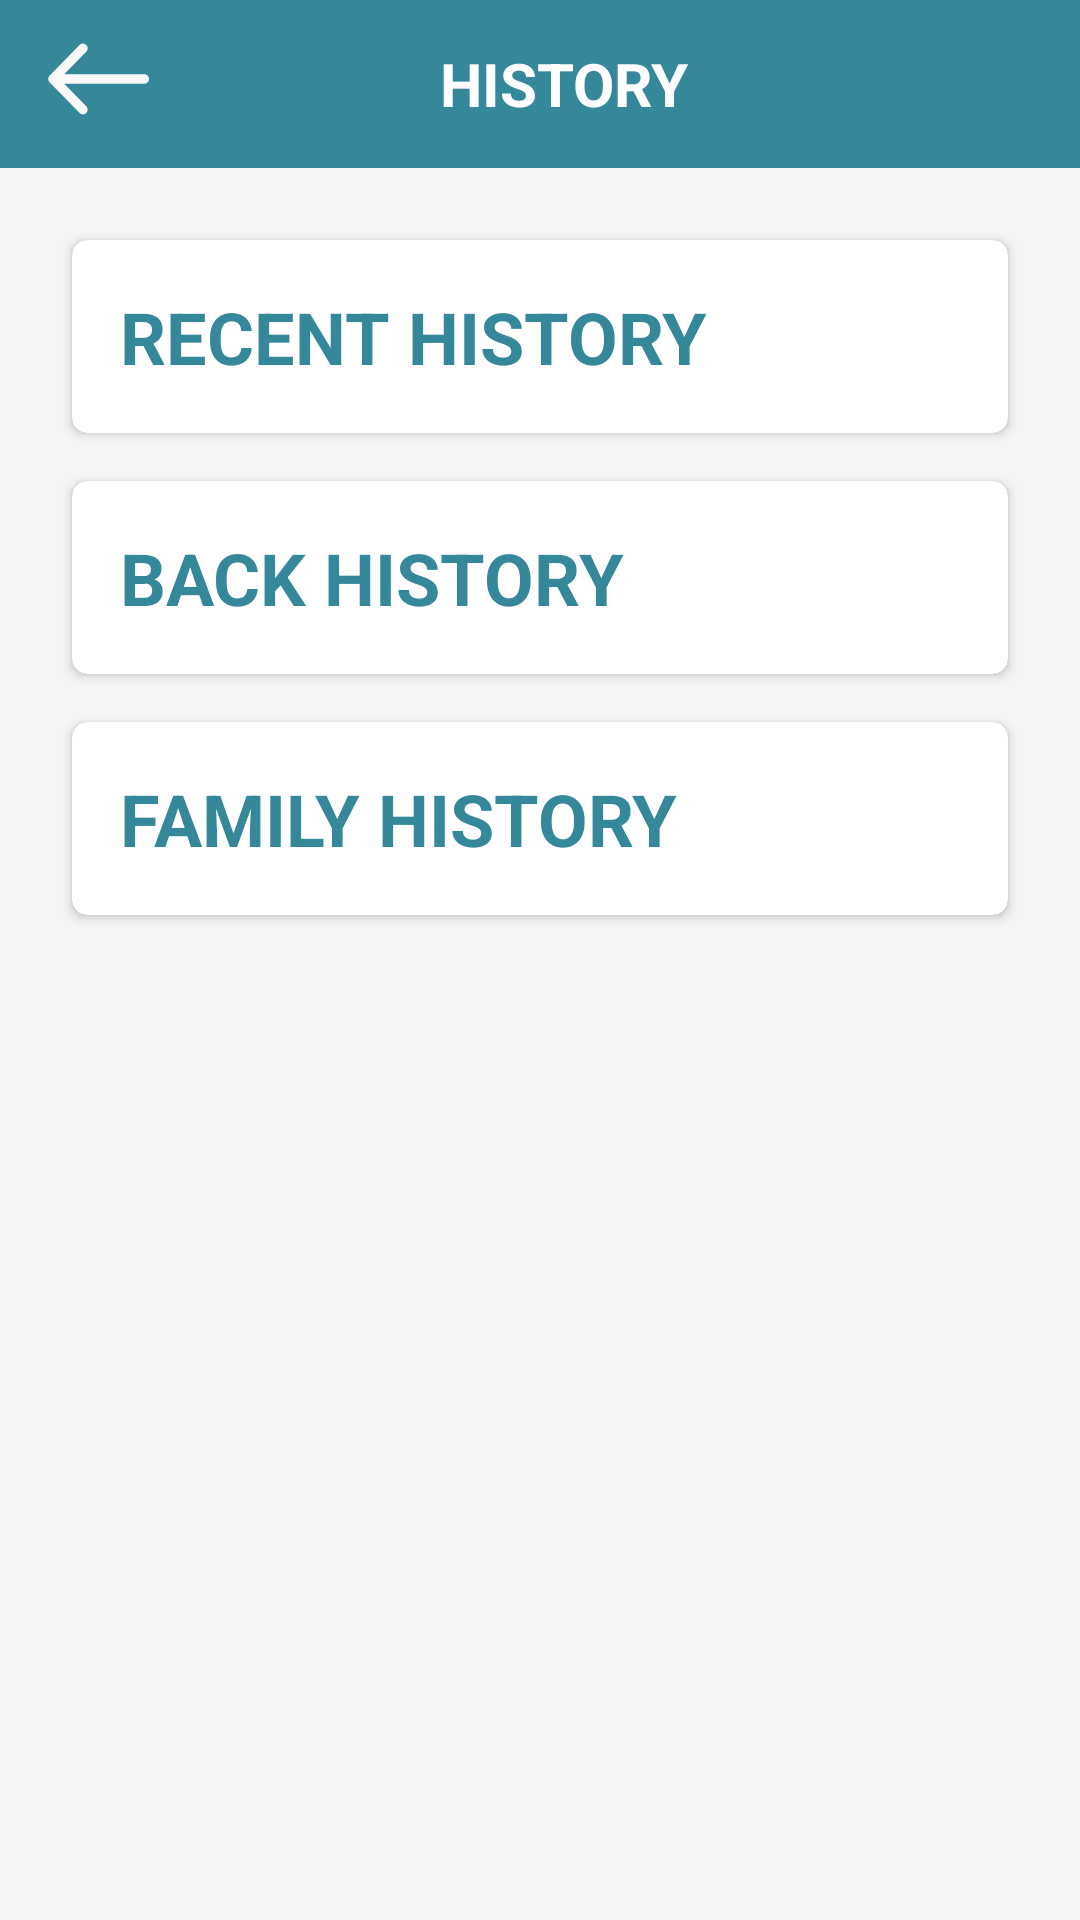

Icon bounding boxes for this 1080px x 1920px phone screenshot, format (x1, y1, x2, y2):
Back Button: (48, 43, 149, 115)
